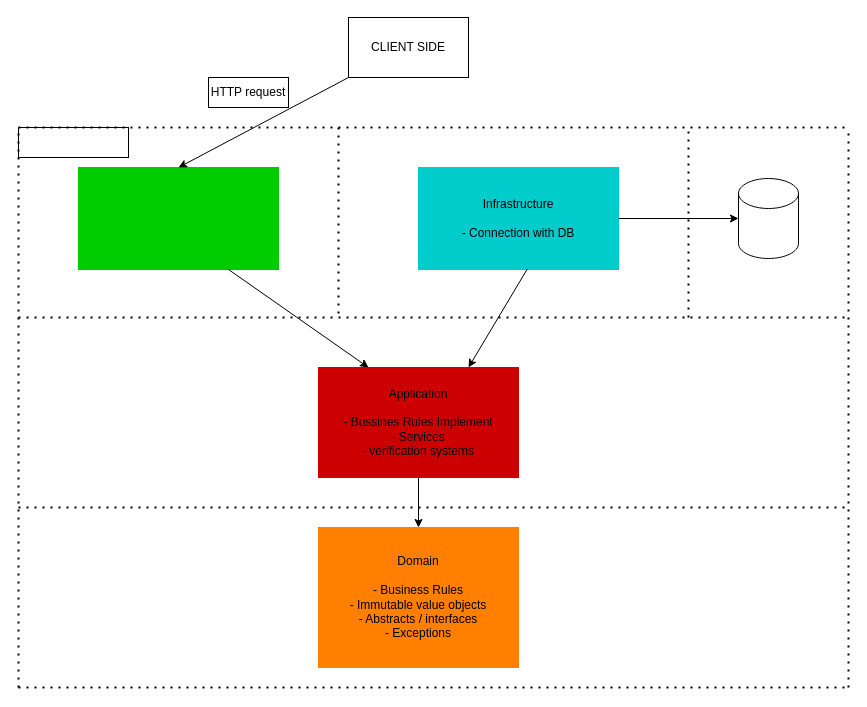
Image size: 867x707. Some labels were removed from this diagram. The shapes that lost their labels are listed below. From the top down, each one's centre as x and y in pixels, then its label:
At pixel 73 142: "SERVER SIDE".
At pixel 178 218: "Presentation - Entry Point (API) - Middleware".
At pixel 768 218: "DB's".
